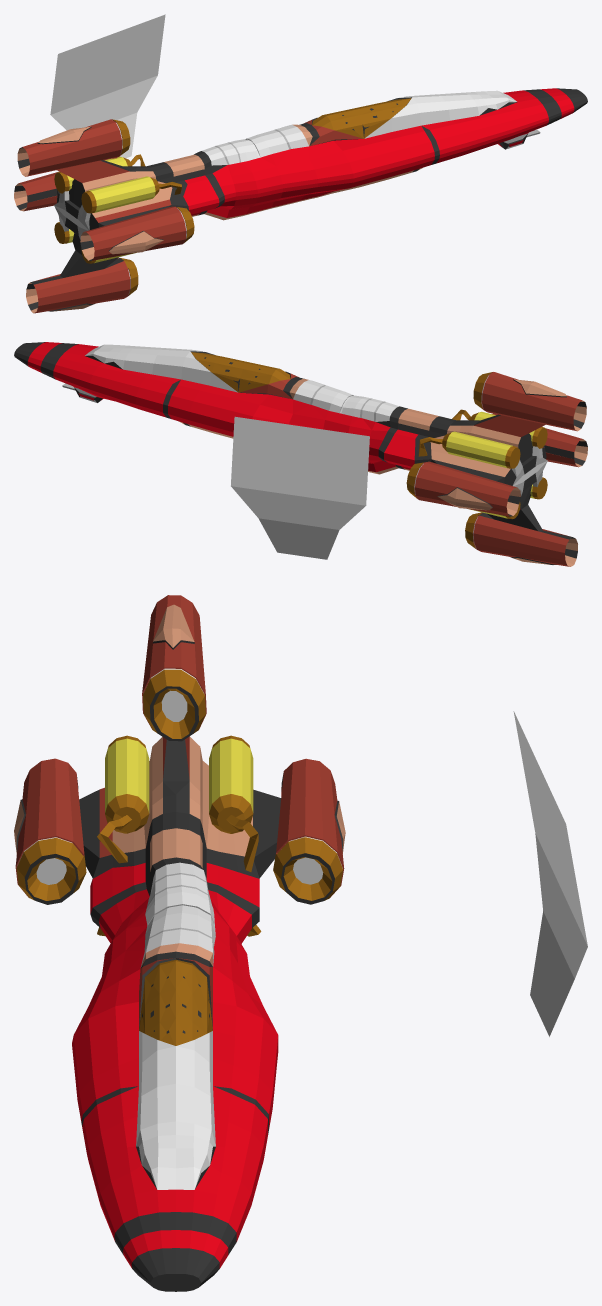
3 views of the same model, one above another, from view 1: azimuth 30°, elevation 25°; view 2: azimuth 150°, elevation 25°; view 3: azimuth 270°, elevation 25° (orthographic). The views are drawn at different scales.
Visible parts, largest first — view 1: SOLOBoostUPG.002, BSShield; view 2: SOLOBoostUPG.002, BSShield; view 3: SOLOBoostUPG.002, BSShield.
Part boxes in pixels (box(x1,y1,x2,y2)): SOLOBoostUPG.002: box(14, 88, 587, 313); BSShield: box(50, 14, 165, 158); SOLOBoostUPG.002: box(14, 342, 587, 566); BSShield: box(231, 416, 369, 559); SOLOBoostUPG.002: box(14, 595, 345, 1291); BSShield: box(513, 711, 587, 1036).
Size of the model in its own units: 471 by 144 by 218.
